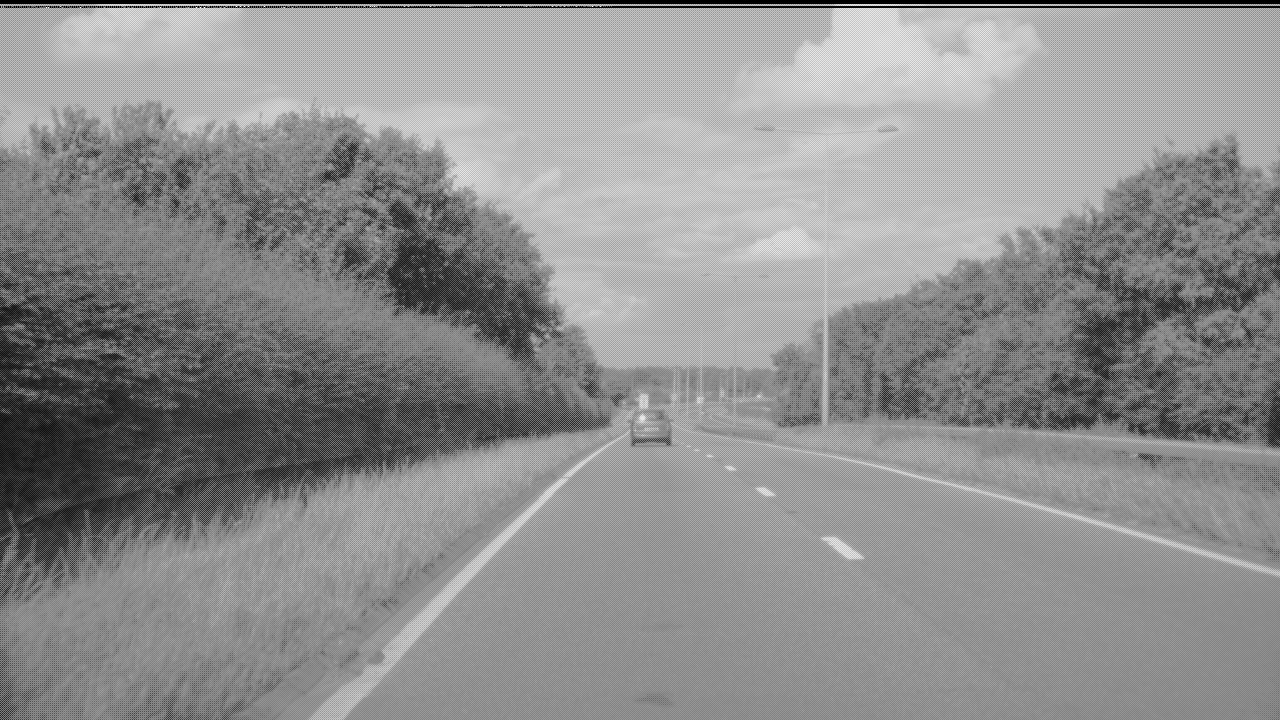pole: (447, 130, 460, 426)
